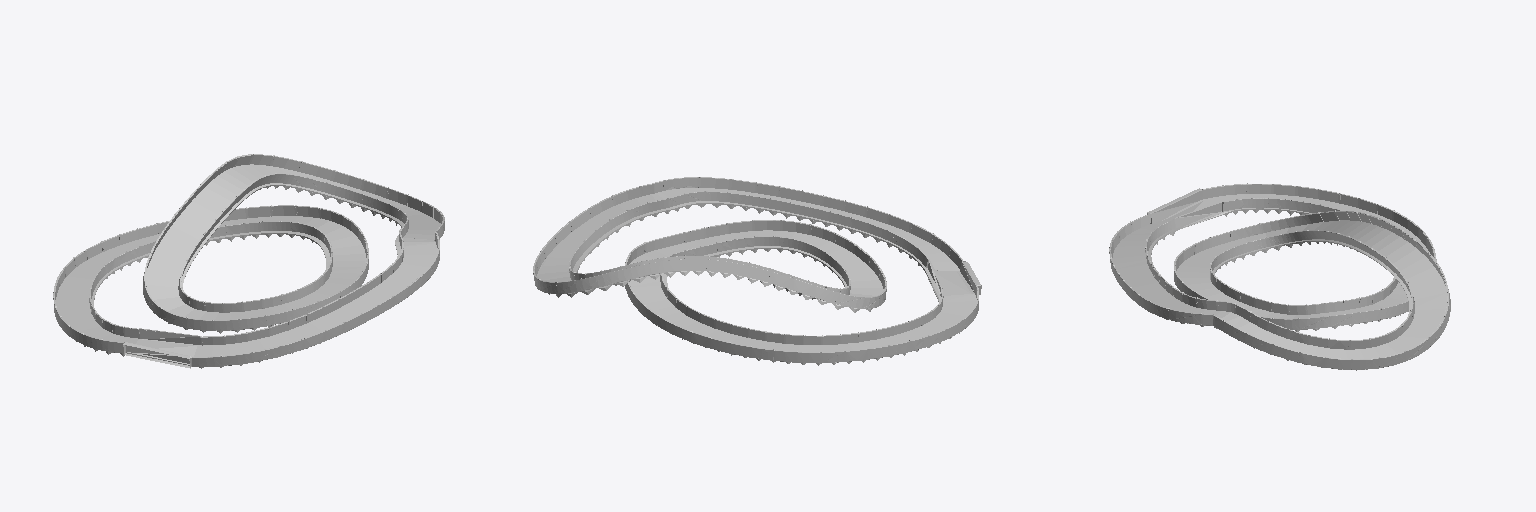
File: fulltrack.obj
3 views of the same model, side by side, from view 1: azimuth 30°, elevation 25°; view 2: azimuth 150°, elevation 25°; view 3: azimuth 270°, elevation 25° (orthographic).
Parts seen in each view (by area): view 1: Plane.002_Plane; view 2: Plane.002_Plane; view 3: Plane.002_Plane.
Part boxes in pixels (left/top/right/bottom): Plane.002_Plane: left=53, top=154, right=444, bottom=368; Plane.002_Plane: left=533, top=177, right=981, bottom=365; Plane.002_Plane: left=1109, top=183, right=1450, bottom=370.
Bounding box in the file's own units: 197 × 36.7 × 153.